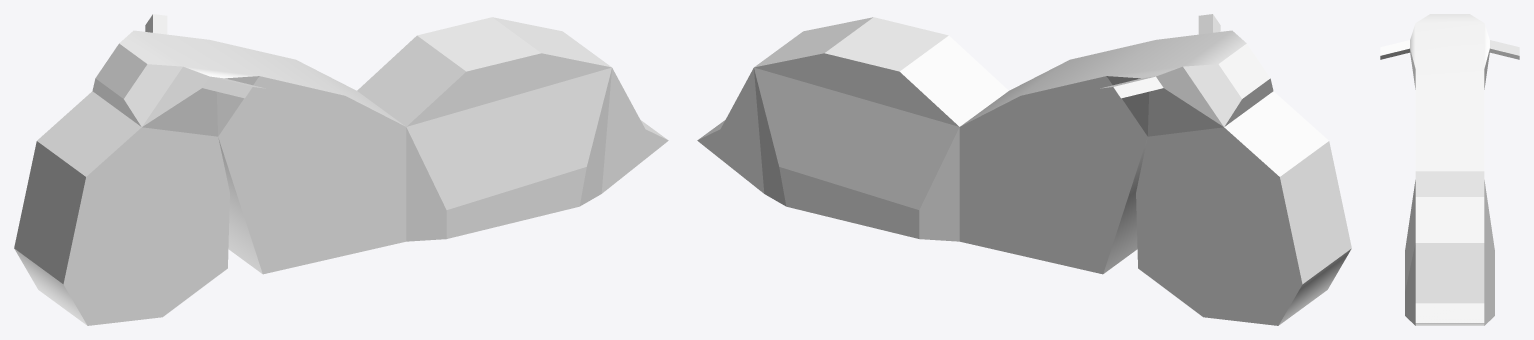
Rendered from MotorbikeCollider.obj.
3 views of the same model, side by side, from view 1: azimuth 30°, elevation 25°; view 2: azimuth 150°, elevation 25°; view 3: azimuth 270°, elevation 25° (orthographic). The views are drawn at different scales.
Parts seen in each view (by area): view 1: pCube1; view 2: pCube1; view 3: pCube1.
Boxes of the visible parts, x1,y1,x2,y2 form: pCube1: (14,14,668,325); pCube1: (697,14,1351,325); pCube1: (1380,14,1519,325).
Size of the model in its own units: 193 by 75.24 by 55.15.
